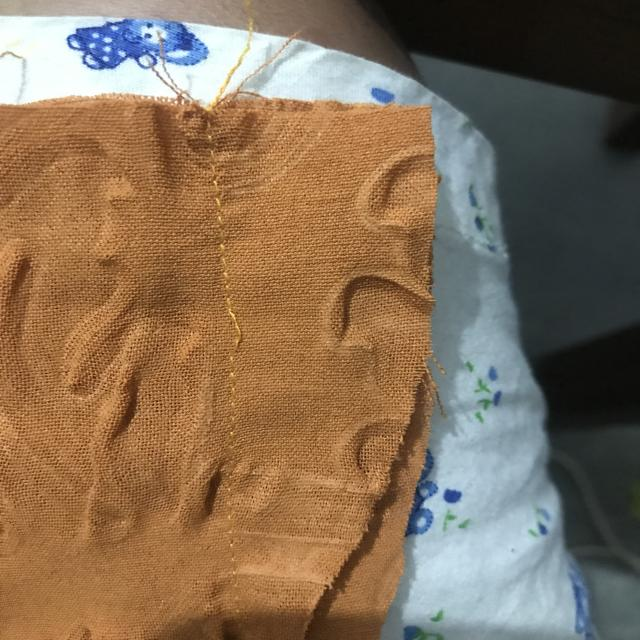good: (212, 208, 236, 269)
skip: (208, 293, 261, 364)
